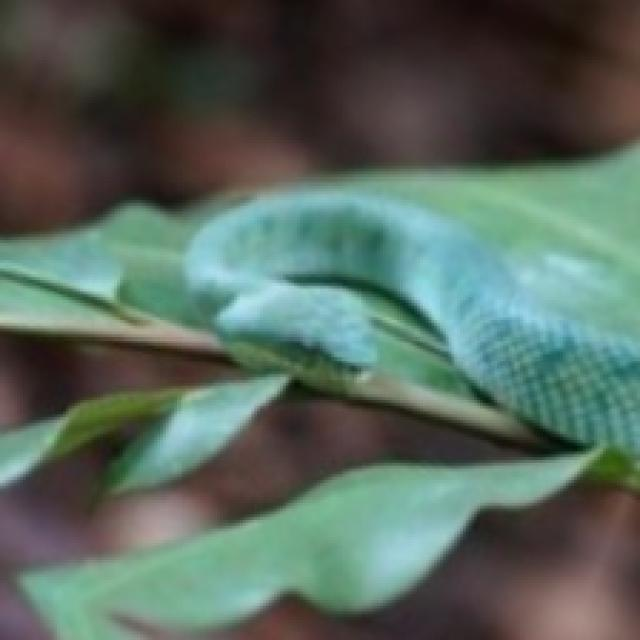north ph temple pitviper: (186, 191, 637, 451)
